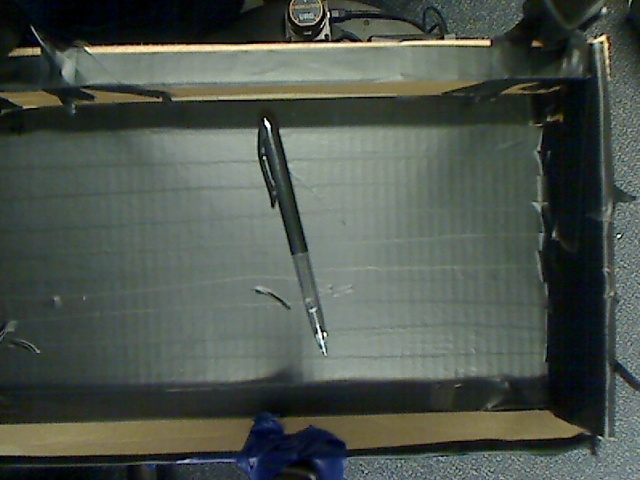pen: (247, 104, 338, 358)
